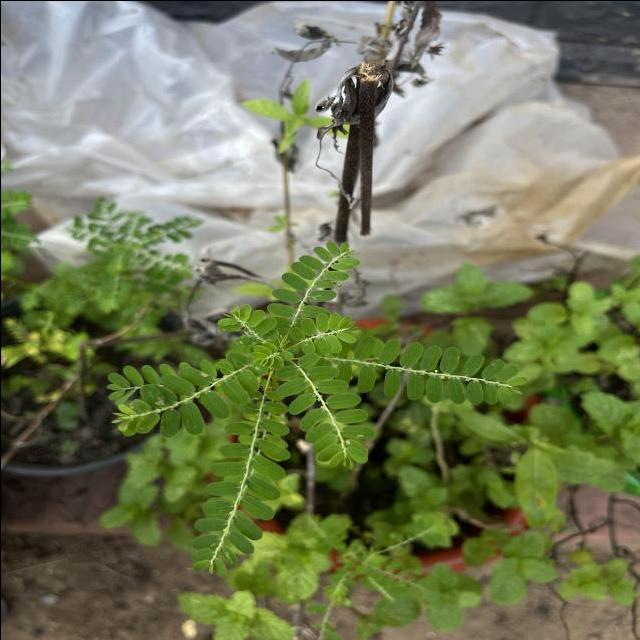Phyllanthus niruri: (188, 396, 292, 578), (336, 331, 530, 405), (108, 354, 262, 439), (274, 347, 378, 468), (268, 237, 360, 332), (288, 310, 362, 358), (215, 301, 278, 350)
